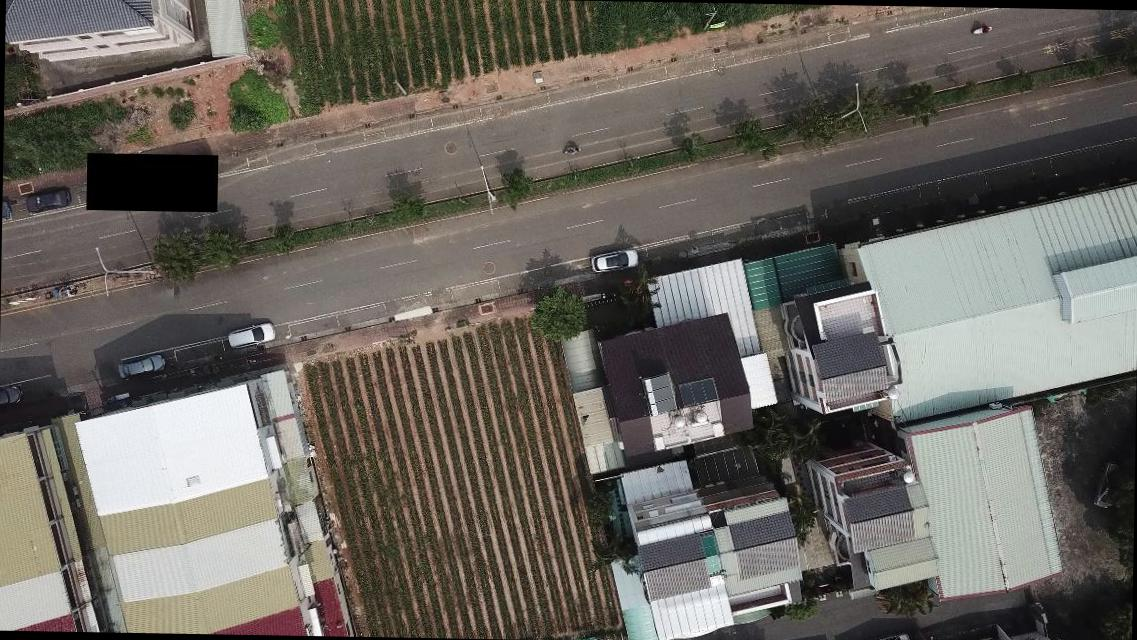vehicle: (24, 182, 72, 216), (226, 321, 276, 350), (587, 245, 638, 272), (118, 351, 165, 379), (0, 382, 23, 406), (866, 629, 914, 639)
